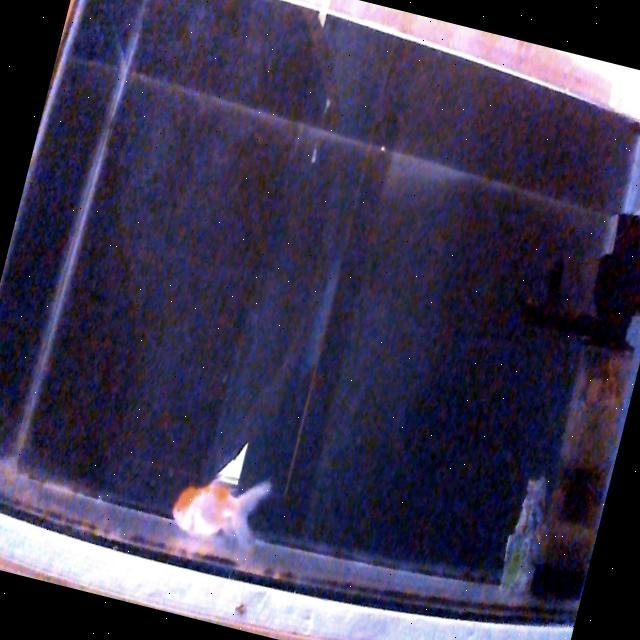fish: (164, 456, 275, 557)
